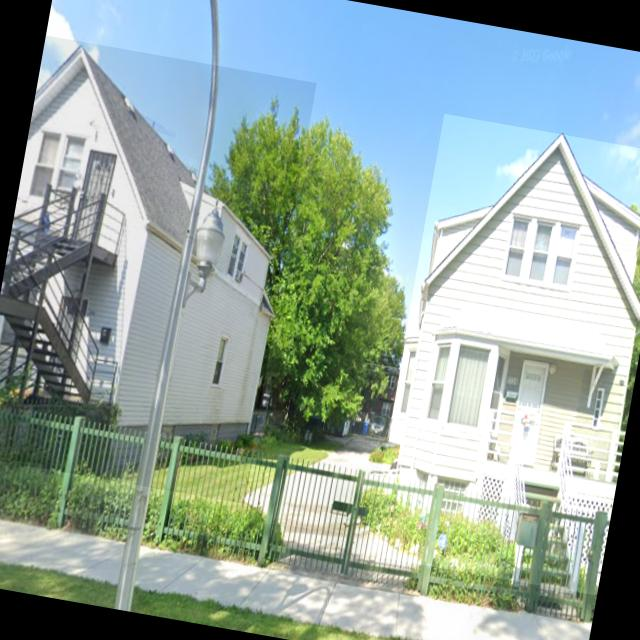House: (0, 35, 316, 503), (366, 113, 640, 595)
